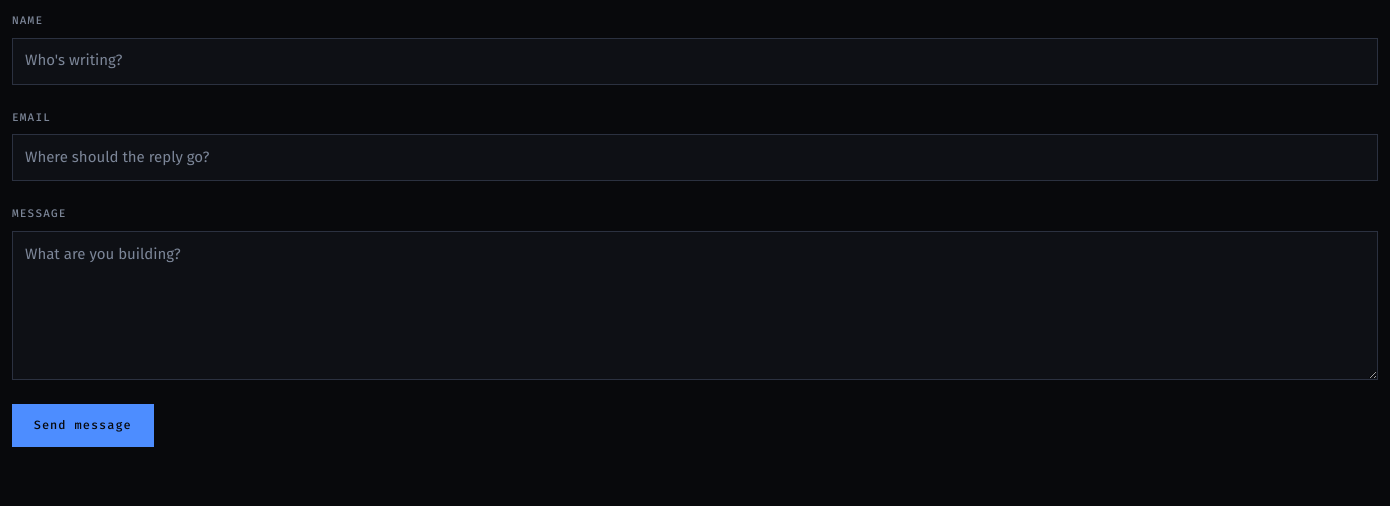
Test case: ContactForm › should show error if promise is rejected
The width and height of the screenshot is (1390, 506).
Type "Alice" into the field with test id "name" at [695, 61], box [12,38,1378,85]
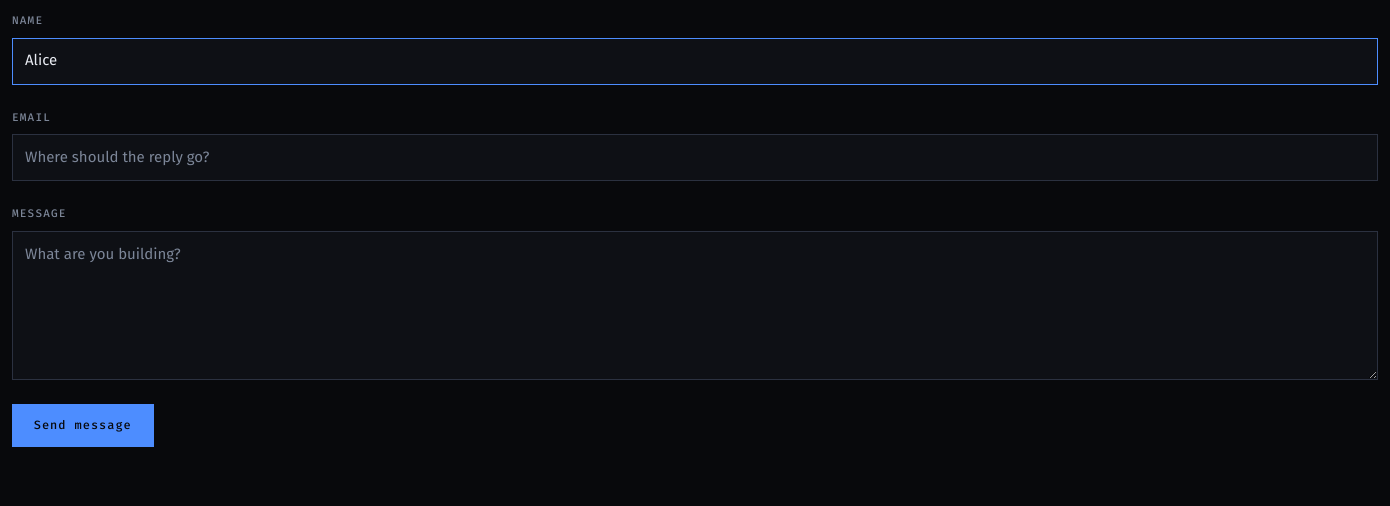
Type "alice@example.com" into the field with test id "email" at [695, 158], box [12,134,1378,181]
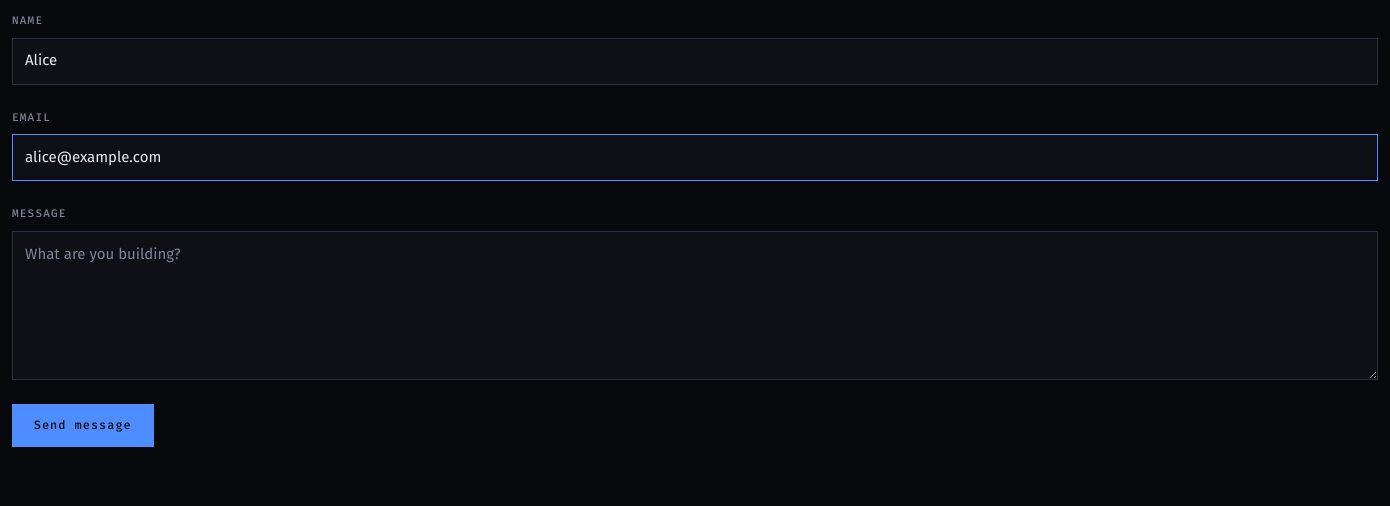
Type "Hello, this is a test." into the text box with test id "message" at [695, 305], box [12,231,1378,380]
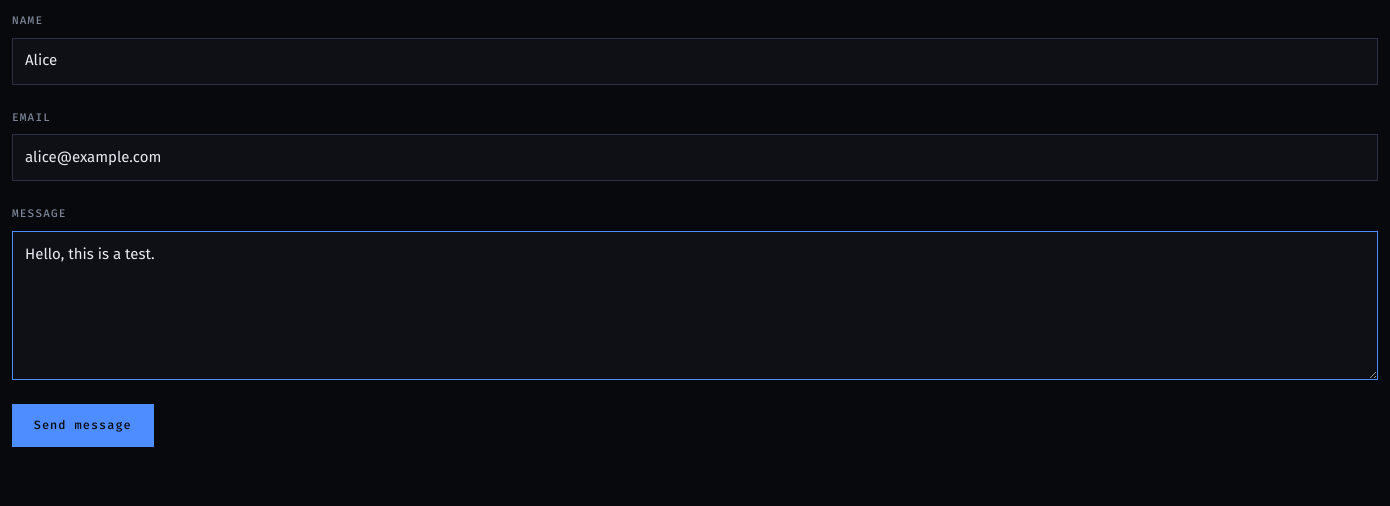
Click the button "Send message" at [83, 425], box [12,404,154,447]
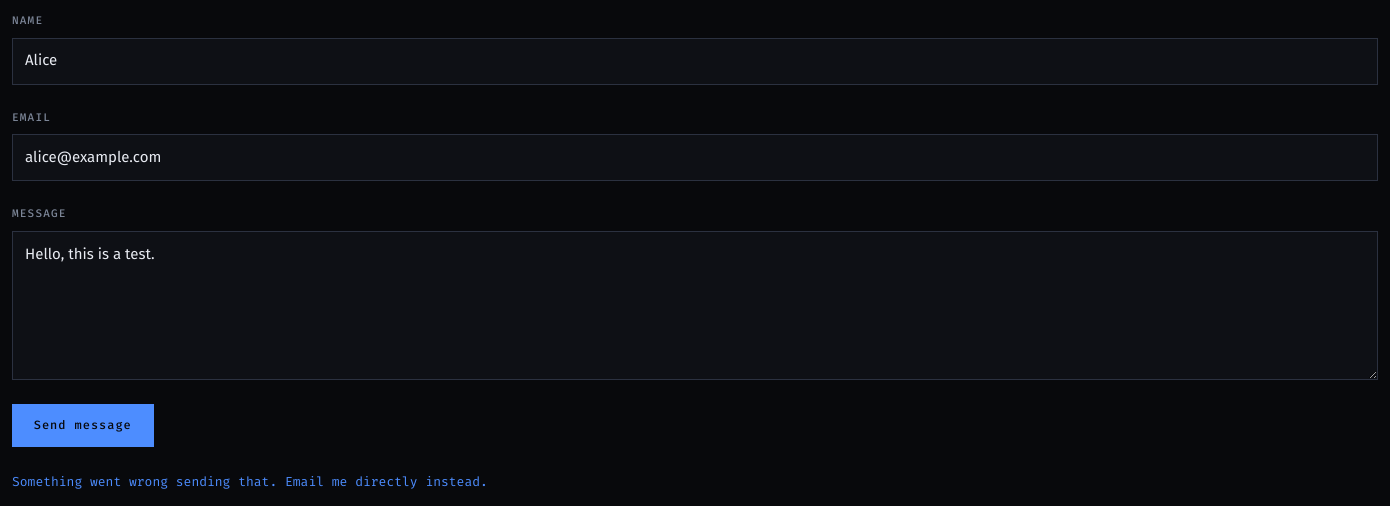
expect the text "Something went wrong sending that. Email me directly instead." is shown: met, box [12,474,488,489]
